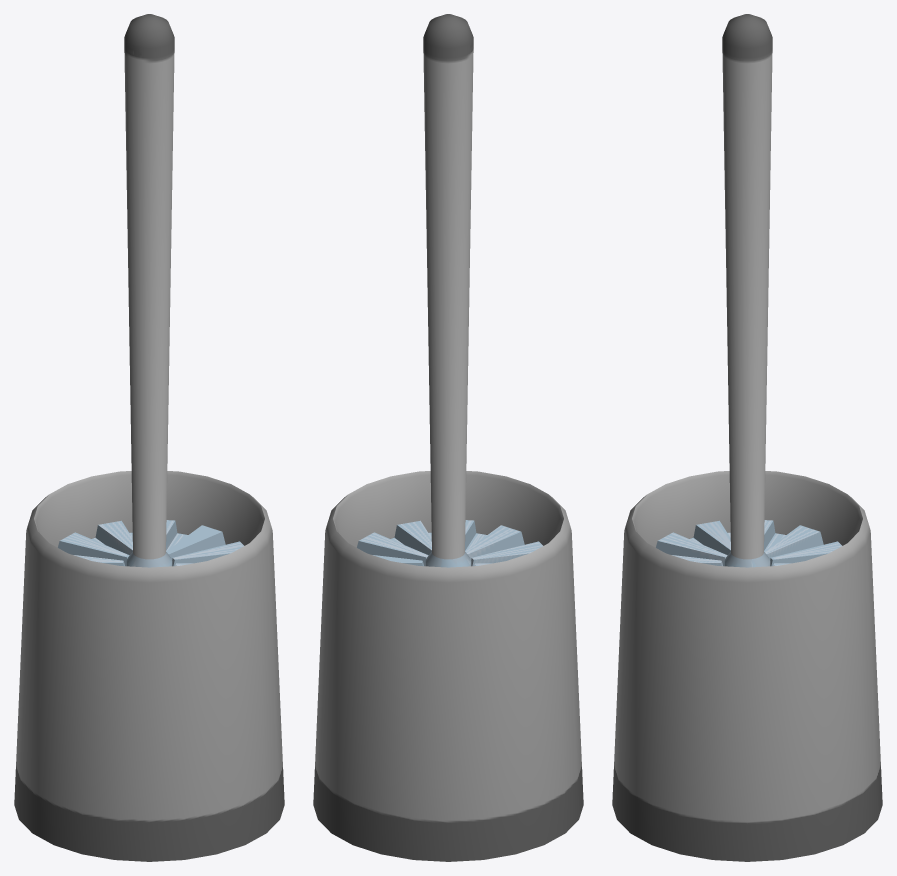
Rendered from ToiletBrush01.FBX.
The picture shows the model from 3 angles, left to right: view 1: azimuth 30°, elevation 25°; view 2: azimuth 150°, elevation 25°; view 3: azimuth 270°, elevation 25°; orthographic projection.
Parts seen in each view (by area): view 1: ToiletBrush01; view 2: ToiletBrush01; view 3: ToiletBrush01.
Boxes of the visible parts, left/top/right/bottom form: ToiletBrush01: left=14, top=14, right=284, bottom=861; ToiletBrush01: left=313, top=14, right=583, bottom=861; ToiletBrush01: left=612, top=14, right=882, bottom=861.
Size of the model in its own units: 17.38 by 55.89 by 17.38.
